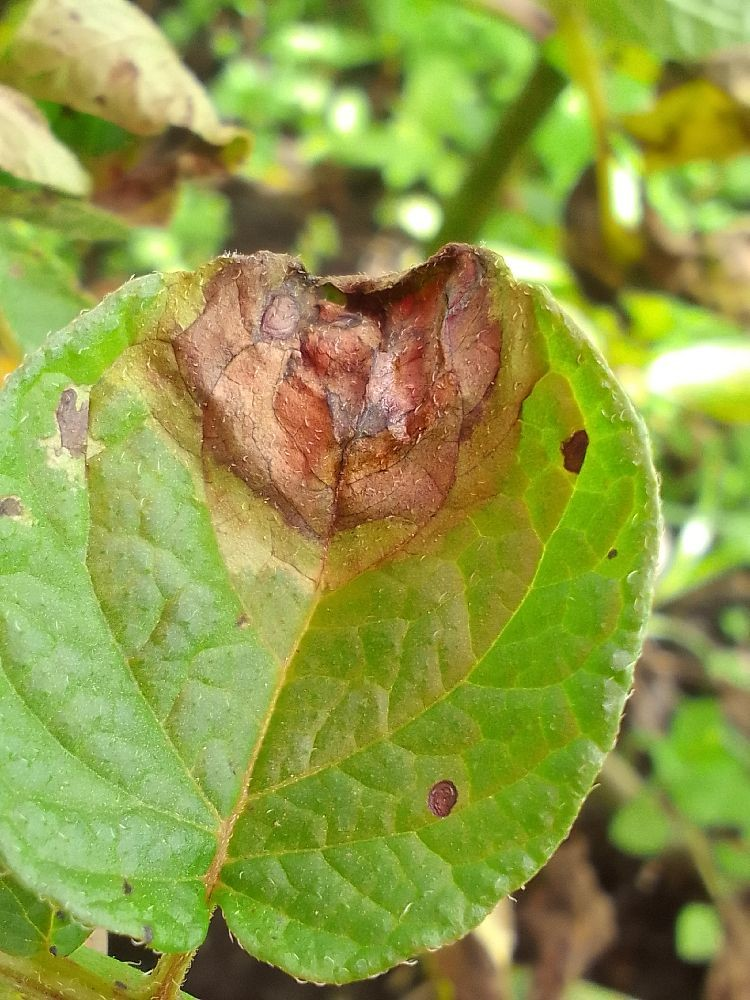late_blight: (0, 0, 606, 723), (540, 121, 750, 351), (646, 555, 750, 675)
